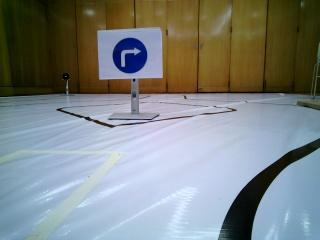right: (100, 33, 158, 75)
